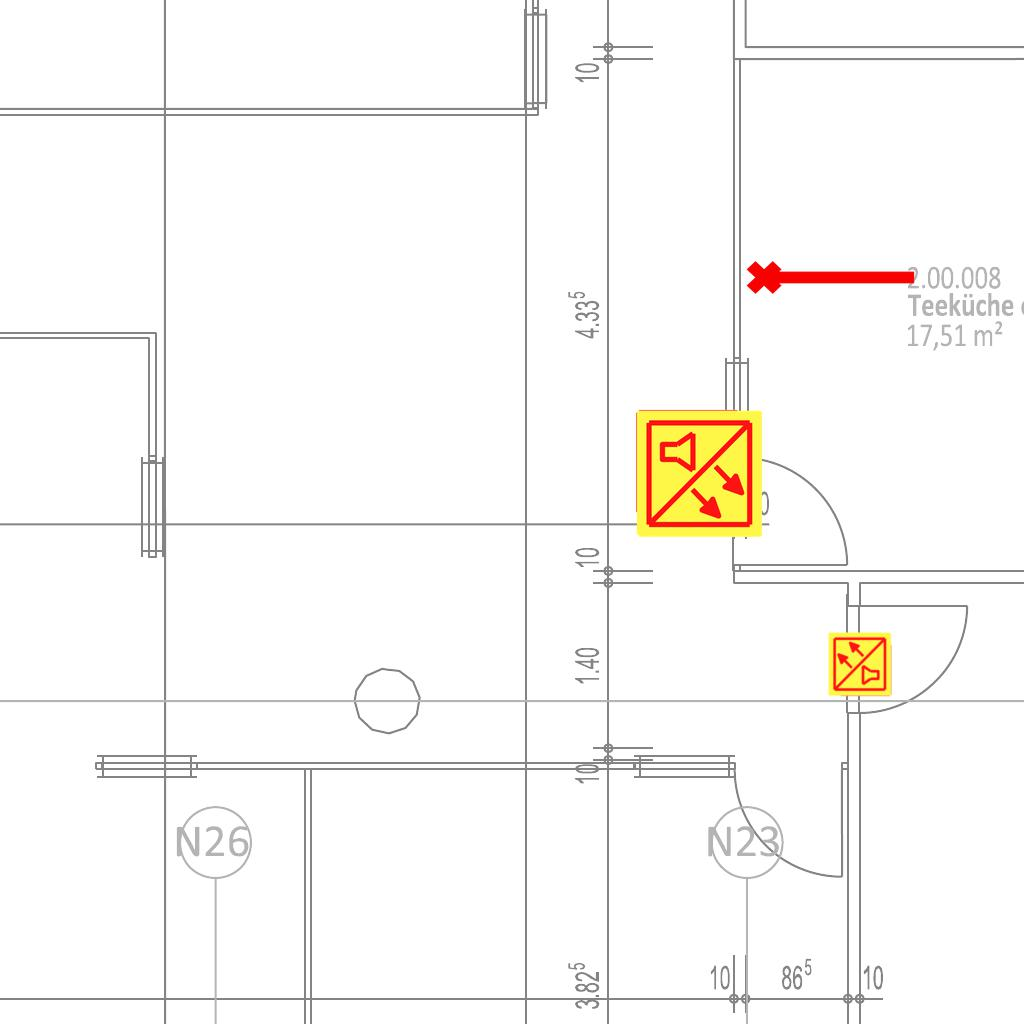ASR_Ansaugoeffnung: (744, 252, 920, 298)
OKW_Multisensormelder_(Kombination_optischer_Rauch-Kahlenmonoxid_Waerme-Melder): (633, 408, 765, 540), (827, 631, 893, 697)
